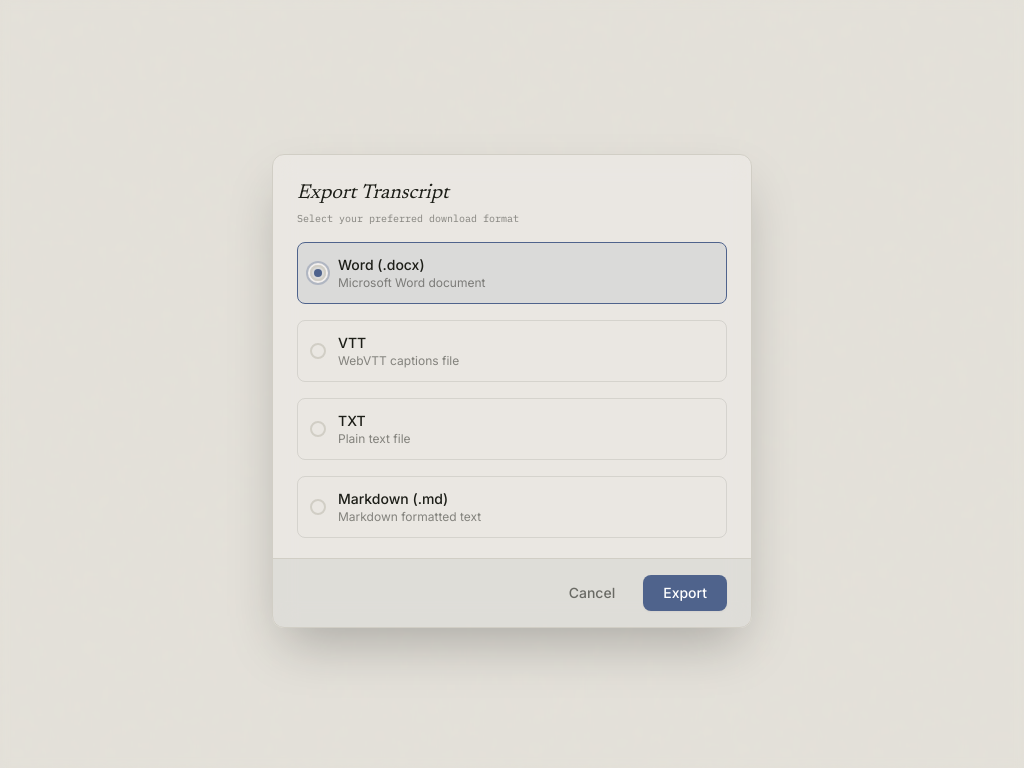
Test: ExportModal - Phase 7 UI regressions › exports using selected format endpoint and closes after success
Click the radio button named "VTT" at x=318, y=351, box [310,343,326,359]
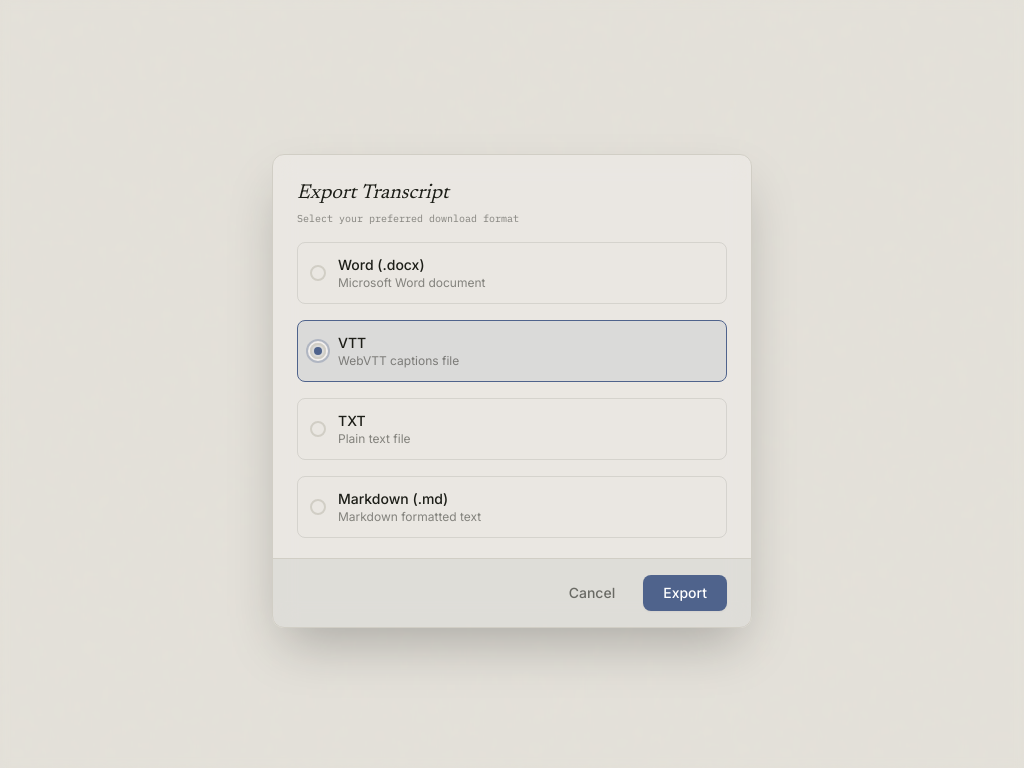
Click the button "Export" at x=685, y=593, box [643,575,727,611]
Wait 1500 ms
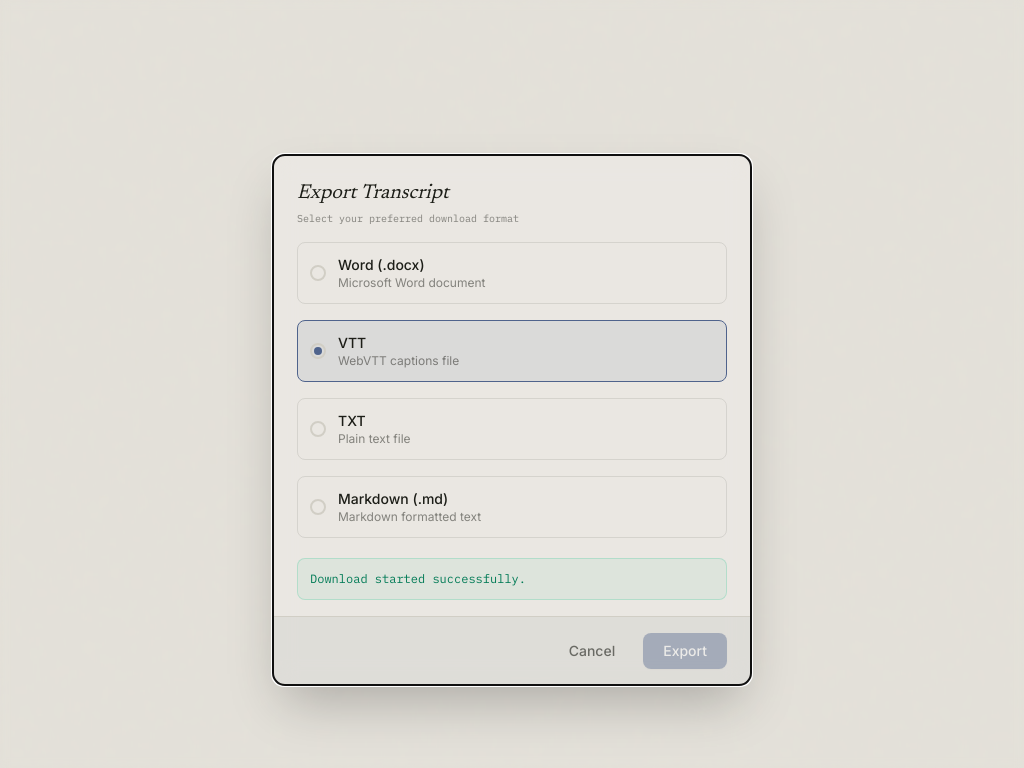
Check: the message reads "Download started successfully.", box [310,571,526,586]
Check: the number of messages is 1, box [297,558,727,600]
